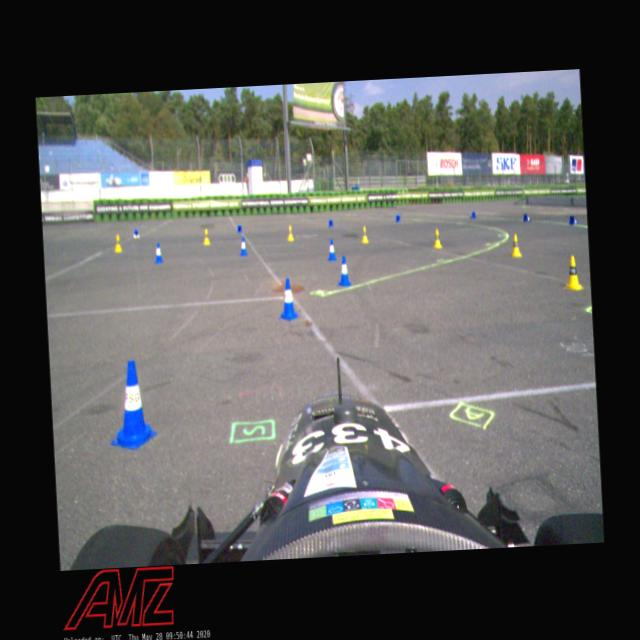blue_cone: (106, 358, 159, 452), (276, 277, 300, 322), (336, 254, 352, 286), (327, 238, 338, 262), (153, 242, 164, 264), (238, 236, 248, 256), (568, 213, 579, 226), (132, 228, 140, 240), (523, 213, 532, 223), (469, 210, 476, 220), (328, 218, 334, 228), (236, 224, 242, 233), (396, 215, 400, 222)
yellow_cone: (563, 254, 584, 291), (509, 234, 523, 258), (432, 228, 444, 249), (112, 232, 122, 252), (360, 225, 370, 242), (286, 224, 295, 242), (202, 229, 211, 246)
